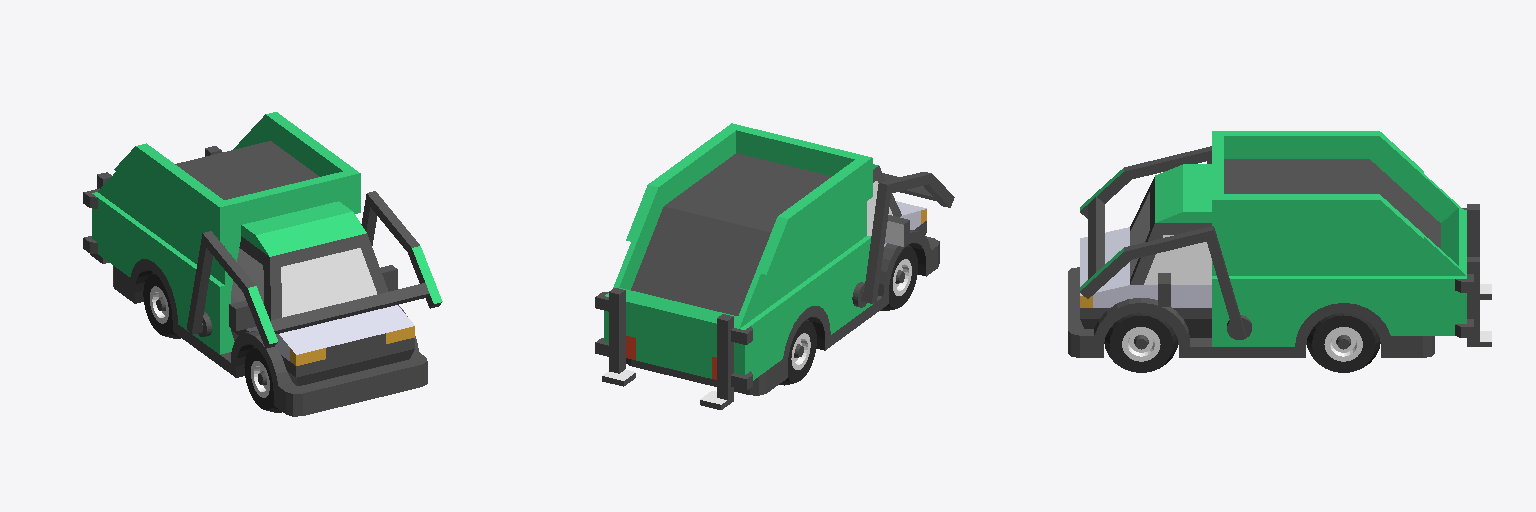
File: garbageTruck.obj
3 renders of one model, left to right at view 1: azimuth 30°, elevation 25°; view 2: azimuth 150°, elevation 25°; view 3: azimuth 270°, elevation 25°, orthographic.
Parts seen in each view (by area): view 1: body, arm, wheel_backRight, wheel_frontRight; view 2: body, arm, wheel_frontRight, wheel_backRight; view 3: body, arm, wheel_frontLeft, wheel_backLeft.
Boxes of the visible parts, x1,y1,x2,y2 form: body: [83, 112, 427, 416]; arm: [187, 191, 442, 348]; wheel_backRight: [143, 272, 180, 338]; wheel_frontRight: [244, 346, 281, 412]; body: [595, 123, 939, 409]; arm: [852, 172, 954, 307]; wheel_frontRight: [880, 245, 917, 310]; wheel_backRight: [779, 319, 816, 385]; body: [1068, 131, 1491, 357]; arm: [1080, 146, 1251, 339]; wheel_frontLeft: [1104, 313, 1177, 372]; wheel_backLeft: [1307, 313, 1380, 372].
Bounding box in the file's own units: 1.6 × 1.6 × 3.4.